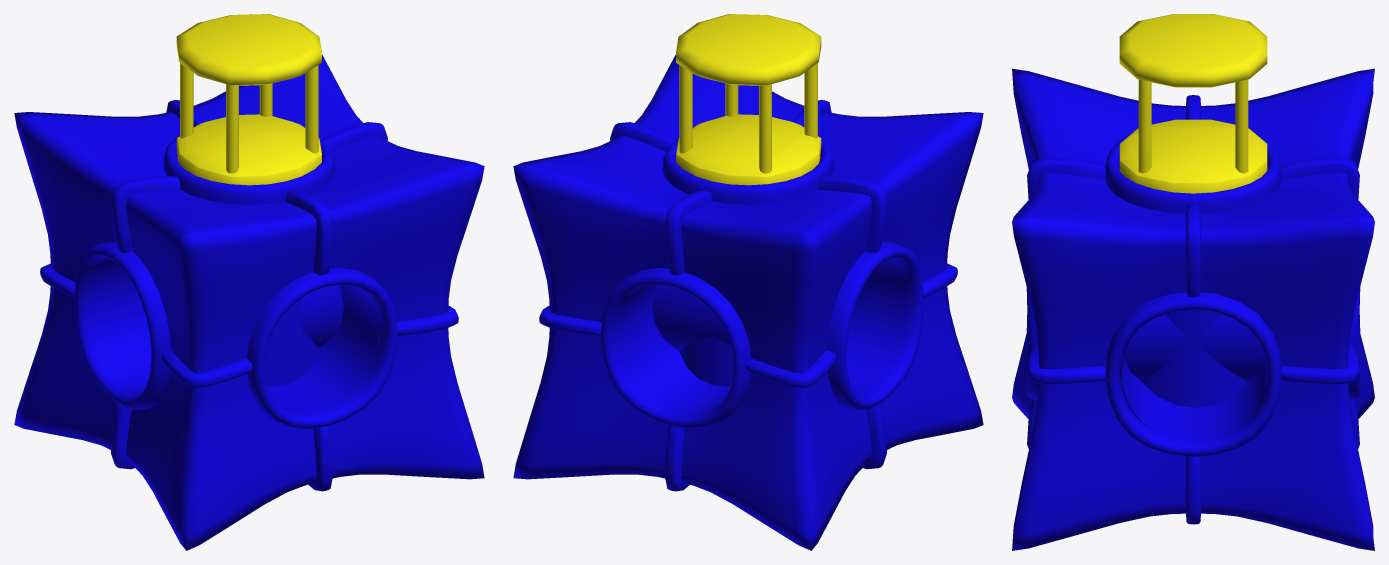
File: Boss_Low_poly.FBX
3 renders of one model, left to right at view 1: azimuth 30°, elevation 25°; view 2: azimuth 150°, elevation 25°; view 3: azimuth 270°, elevation 25°, orthographic. The views are drawn at different scales.
Parts seen in each view (by area): view 1: 1_BODY_Boss_ok, 5_Estructura_Cap_Boss; view 2: 1_BODY_Boss_ok, 5_Estructura_Cap_Boss; view 3: 1_BODY_Boss_ok, 5_Estructura_Cap_Boss.
Part boxes in pixels (x1,y1,x2,y2): 1_BODY_Boss_ok: [14, 54, 484, 550]; 5_Estructura_Cap_Boss: [176, 14, 321, 185]; 1_BODY_Boss_ok: [513, 54, 983, 550]; 5_Estructura_Cap_Boss: [676, 14, 821, 185]; 1_BODY_Boss_ok: [1012, 68, 1374, 550]; 5_Estructura_Cap_Boss: [1119, 14, 1267, 193].
Bounding box in the file's own units: 28.09 × 37.03 × 28.09.
